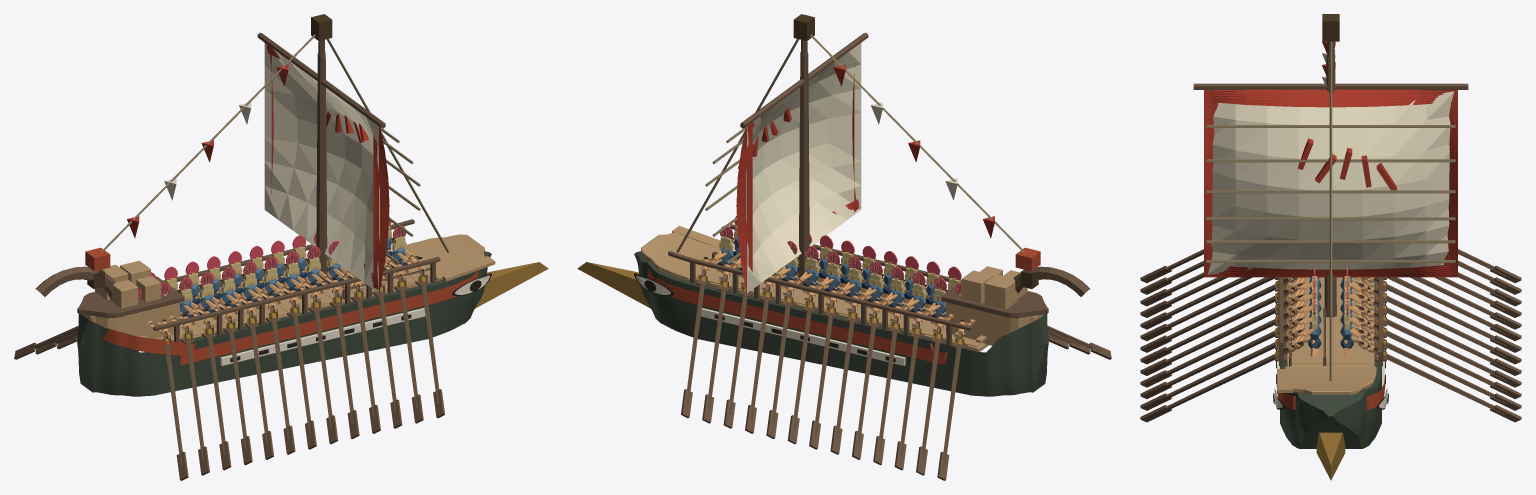
Rendered from warship-battle-v5.glb.
3 views of the same model, side by side, from view 1: azimuth 30°, elevation 25°; view 2: azimuth 150°, elevation 25°; view 3: azimuth 270°, elevation 25° (orthographic). The views are drawn at different scales.
Parts seen in each view (by area): view 1: sail, hull-low, n27, mast, n295, Bow transfer deck, n281, n253, n283, n31, hull-prow, n29 (+19 smaller); view 2: sail, hull-low, n3, mast, Bow transfer deck, n293, n281, n233, n7, n283, hull-prow, n289 (+18 smaller); view 3: sail, hull-low, n297, Bow transfer deck, n299, n289, n293, n295, n325, hull-prow, n303, n305 (+29 smaller).
Part boxes in pixels (x1,y1,x2,y2): sail: (264, 43, 379, 293); hull-low: (77, 251, 491, 396); n27: (179, 270, 478, 365); mast: (316, 53, 327, 281); n295: (373, 127, 389, 292); Bow transfer deck: (405, 234, 484, 280); n281: (82, 302, 179, 338); n253: (153, 256, 440, 330); n283: (77, 276, 184, 318); n31: (220, 308, 425, 365); hull-prow: (475, 262, 548, 308); n29: (102, 328, 195, 355); sail: (746, 43, 861, 293); hull-low: (634, 251, 1048, 396); n3: (647, 269, 946, 365); mast: (798, 53, 809, 283); Bow transfer deck: (641, 232, 720, 280); n293: (736, 122, 752, 292); n281: (946, 302, 1043, 345); n233: (668, 251, 972, 330); n7: (701, 308, 905, 365); n283: (941, 282, 1048, 318); hull-prow: (577, 262, 650, 308); n289: (740, 32, 868, 128); sail: (1207, 91, 1454, 274); hull-low: (1280, 284, 1381, 448); n297: (1212, 89, 1452, 107); Bow transfer deck: (1284, 366, 1376, 394); n299: (1205, 265, 1449, 277); n289: (1193, 83, 1468, 89); n293: (1444, 90, 1457, 277); n295: (1204, 90, 1217, 277); n325: (1329, 41, 1332, 380); hull-prow: (1316, 432, 1345, 480); n303: (1206, 240, 1455, 243); n305: (1206, 217, 1455, 220).
Size of the model in its own units: 6.48 by 4.2 by 3.75.
